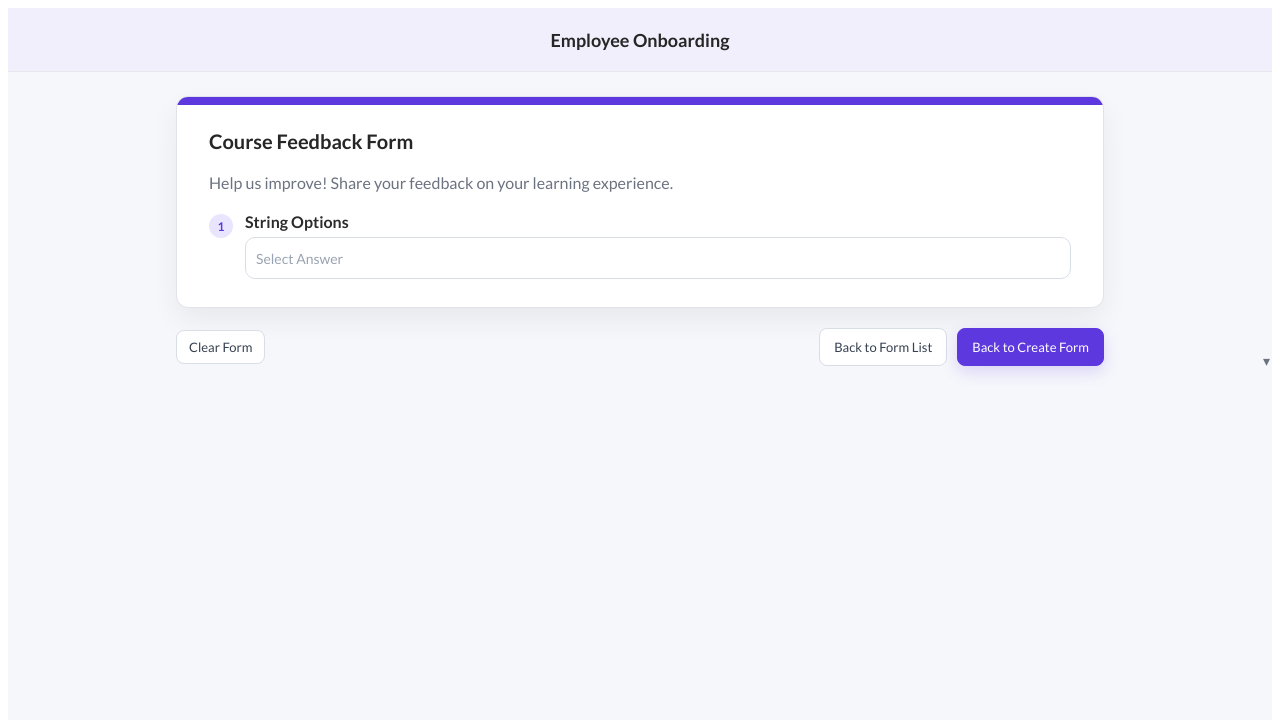
handles string options format in MultiSelect
The width and height of the screenshot is (1280, 720).
// Open the multiselect
Click the element showing "Select Answer ▾" at (300, 258), box [256,250,343,266]
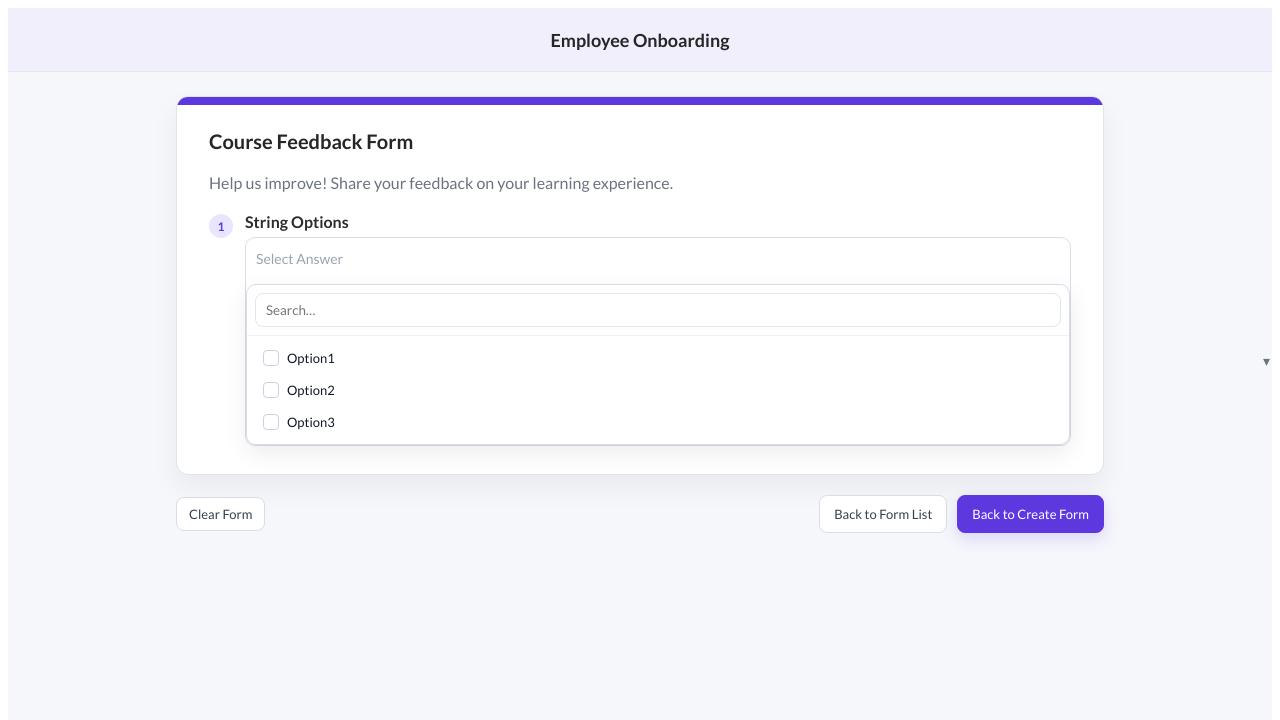
Expected: the option "Option1" is shown, [253,342,1063,374]
Expected: the option "Option2" is shown, [253,374,1063,406]
Expected: the option "Option3" is shown, [253,406,1063,438]
